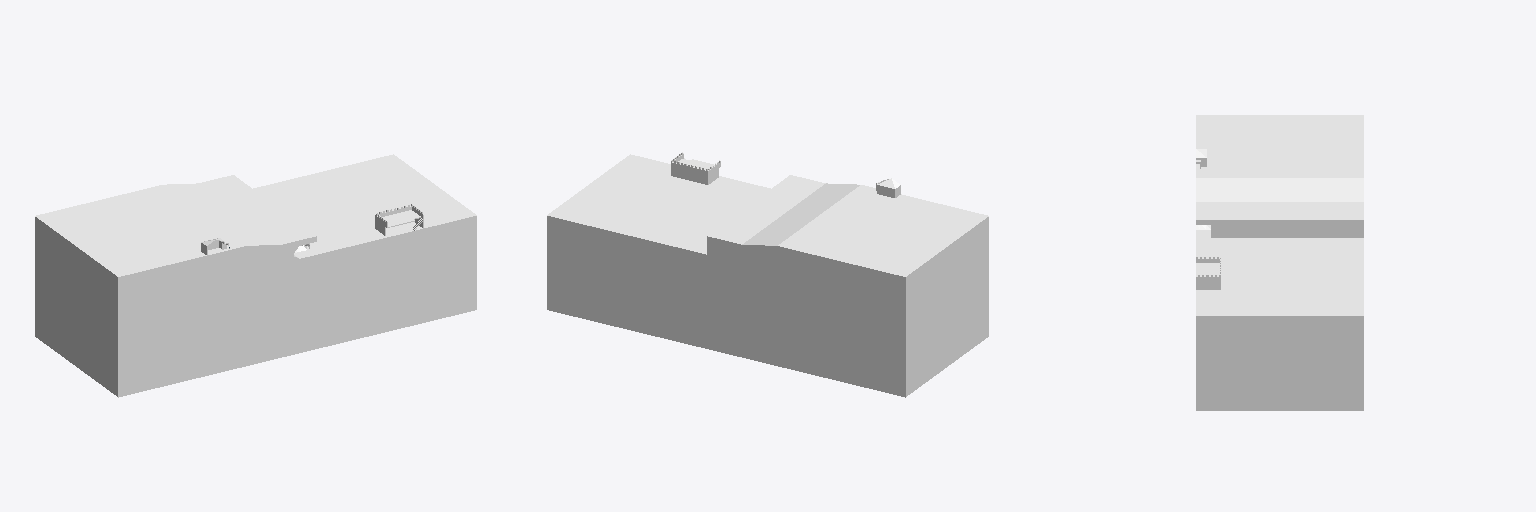
The model's file is level.obj.
The picture shows the model from 3 angles: view 1: azimuth 30°, elevation 25°; view 2: azimuth 150°, elevation 25°; view 3: azimuth 270°, elevation 25°; orthographic projection.
Visible parts, largest first — view 1: SketchUp; view 2: SketchUp; view 3: SketchUp.
Boxes of the visible parts, <box> form: SketchUp: <box>35,154,476,397</box>; SketchUp: <box>547,152,988,397</box>; SketchUp: <box>1196,115,1363,410</box>.
Bounding box in the file's own units: 7992 × 2854 × 3228.